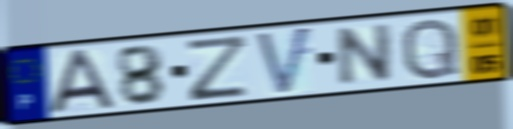8: (114, 43, 167, 107)
A: (47, 47, 117, 116)
N: (336, 21, 395, 89)
Q: (400, 16, 462, 83)
V: (253, 23, 315, 98)
Z: (184, 33, 251, 104)
